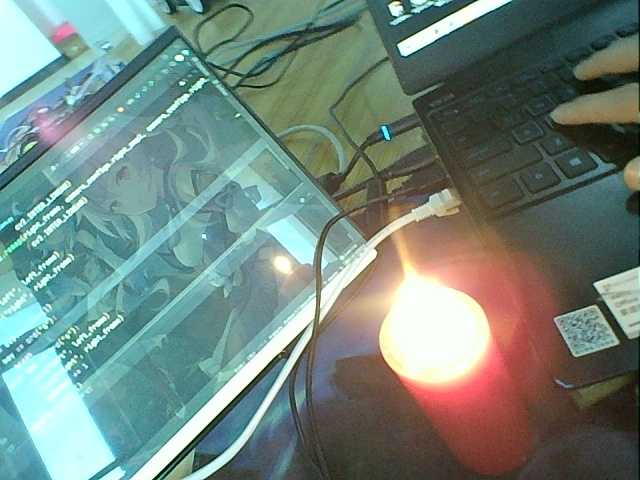candle: (390, 383, 535, 469), (290, 279, 322, 294)
fire: (367, 276, 478, 363), (265, 251, 293, 273)
